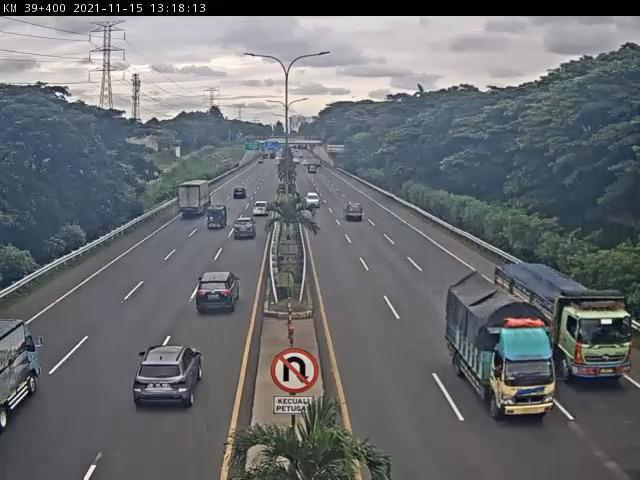car: (133, 345, 205, 410), (197, 271, 242, 316), (233, 217, 258, 239)
truck: (444, 271, 558, 421), (497, 268, 635, 379), (180, 180, 215, 219), (206, 205, 229, 231)
